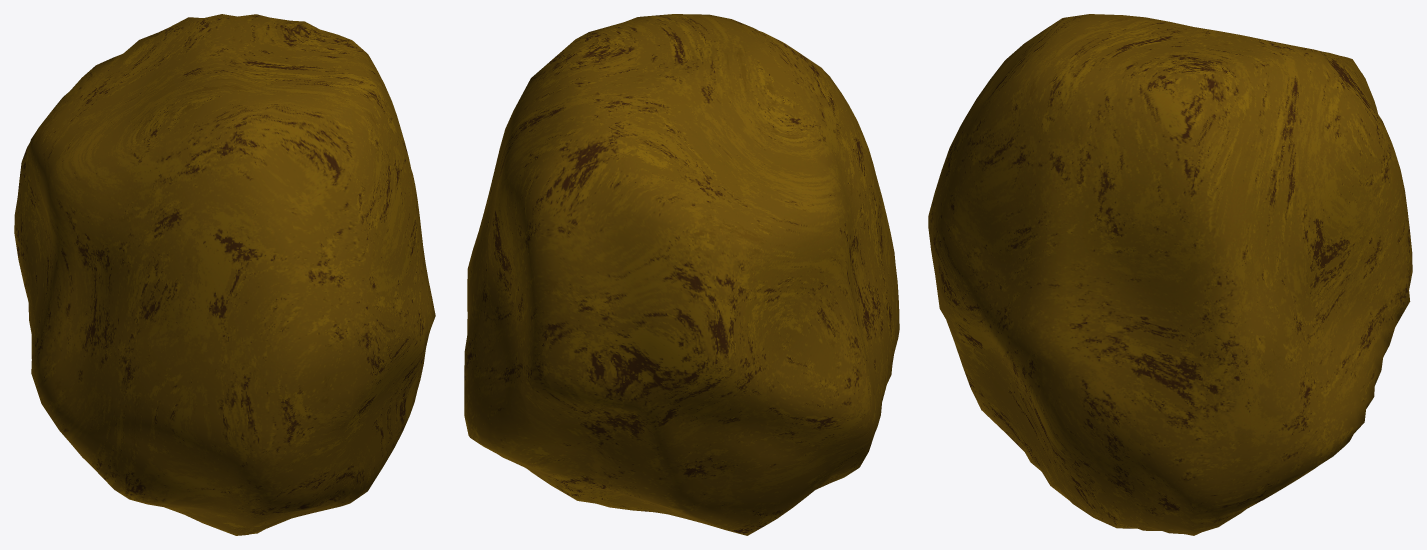
File: simple_gold_ore.glb
3 views of the same model, side by side, from view 1: azimuth 30°, elevation 25°; view 2: azimuth 150°, elevation 25°; view 3: azimuth 270°, elevation 25° (orthographic). The views are drawn at different scales.
Visible parts, largest first — view 1: Cube; view 2: Cube; view 3: Cube.
Part boxes in pixels (x1,y1,x2,y2): Cube: (14,14,435,535); Cube: (464,14,899,535); Cube: (928,14,1412,535).
Bounding box in the file's own units: 1.68 × 1.97 × 1.82.
1 material, 1 textured.
